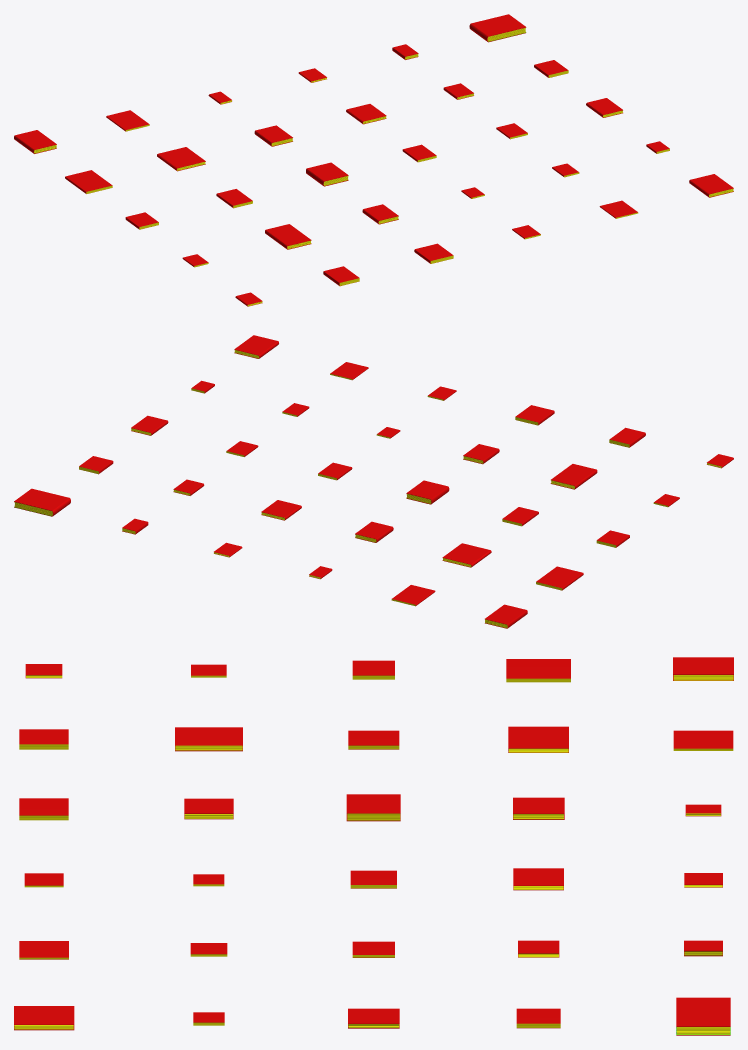
The model's file is books_grp.fbx.
The picture shows the model from 3 angles, top to bottom: view 1: azimuth 30°, elevation 25°; view 2: azimuth 150°, elevation 25°; view 3: azimuth 270°, elevation 25°; orthographic projection. The views are drawn at different scales.
Parts seen in each view (by area): view 1: book_front_1, book_front_22, book_front_24, book_front_27, book_front_5, book_front_18, book_front_26, book_front_21; view 2: book_front_1, book_front_22, book_front_24, book_front_27, book_front_5, book_front_18, book_front_26, book_front_21; view 3: book_front_1, book_front_22, book_front_27, book_front_24, book_front_26, book_front_5, book_front_18, book_front_21, book_front_17, book_front_12, book_front_20, book_front_19 (+9 smaller).
Part boxes in pixels (<box>): book_front_1: <box>469,14,526,39</box>; book_front_22: <box>157,147,205,169</box>; book_front_24: <box>265,224,311,247</box>; book_front_27: <box>65,170,112,192</box>; book_front_5: <box>689,174,733,195</box>; book_front_18: <box>306,162,348,183</box>; book_front_26: <box>14,130,56,151</box>; book_front_21: <box>106,110,149,130</box>; book_front_1: <box>14,488,70,513</box>; book_front_22: <box>442,543,491,566</box>; book_front_24: <box>551,464,597,487</box>; book_front_27: <box>536,566,583,589</box>; book_front_5: <box>234,335,278,357</box>; book_front_18: <box>406,480,449,501</box>; book_front_26: <box>485,604,527,626</box>; book_front_21: <box>391,585,435,605</box>; book_front_1: <box>676,997,730,1030</box>; book_front_22: <box>508,726,568,750</box>; book_front_27: <box>506,659,570,680</box>; book_front_24: <box>175,727,242,747</box>; book_front_26: <box>673,657,733,677</box>; book_front_5: <box>14,1006,74,1026</box>; book_front_18: <box>346,794,400,816</box>; book_front_21: <box>673,730,733,749</box>; book_front_17: <box>513,797,564,816</box>; book_front_12: <box>513,868,563,887</box>; book_front_20: <box>19,798,68,817</box>; book_front_19: <box>184,798,233,816</box>.
Bounding box in the file's own units: 536 × 6.2 × 437.
